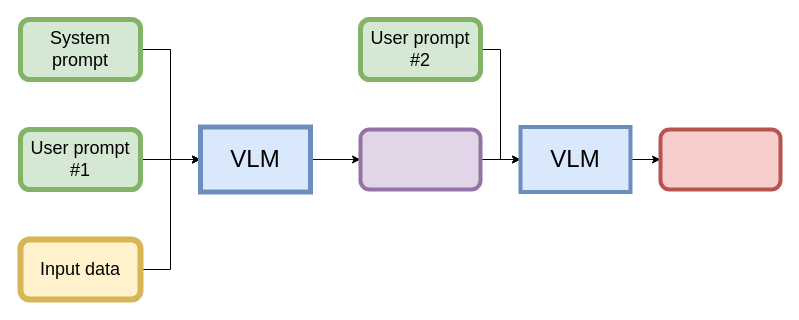
Image size: 799x320. Some labels were removed from this diagram. The shapes that lost their labels are listed below. From the top down, each one's centre as x and y in pixels, then its label:
[420,159]: Scene description
[720,159]: Anomaly classification
